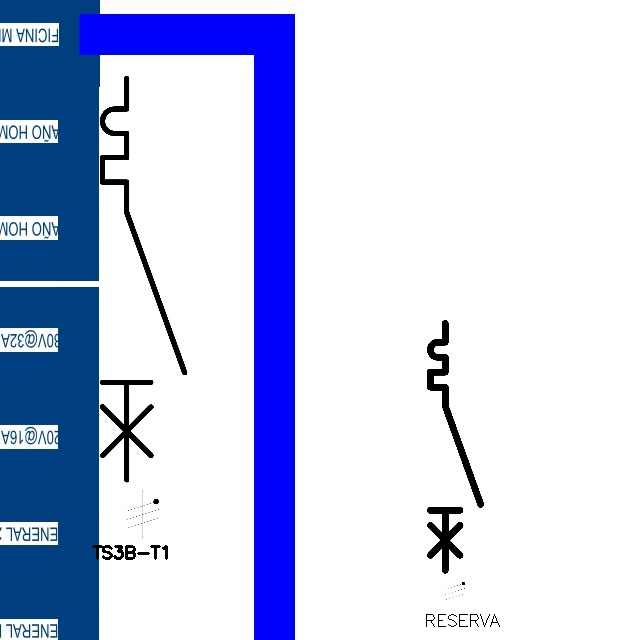interruptor_termomagnetico: (92, 68, 195, 490), (424, 317, 487, 576)
